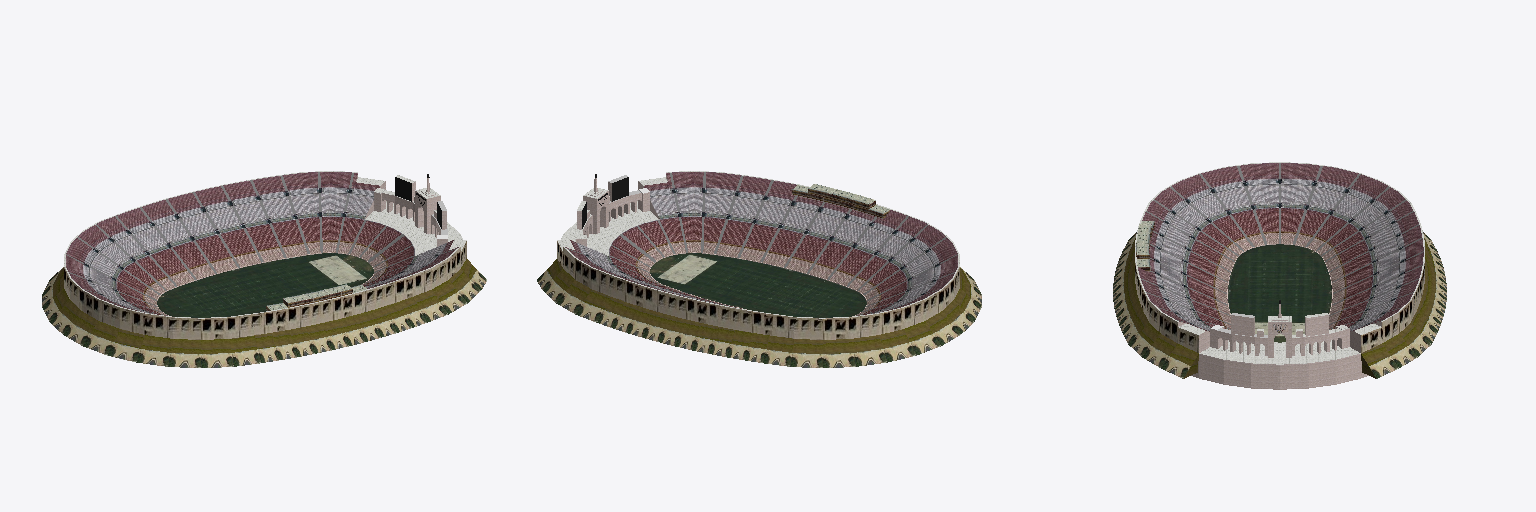
3 views of the same model, side by side, from view 1: azimuth 30°, elevation 25°; view 2: azimuth 150°, elevation 25°; view 3: azimuth 270°, elevation 25° (orthographic).
Bounding box in the file's own units: 338 × 66.19 × 253.
15 materials, 11 textured.